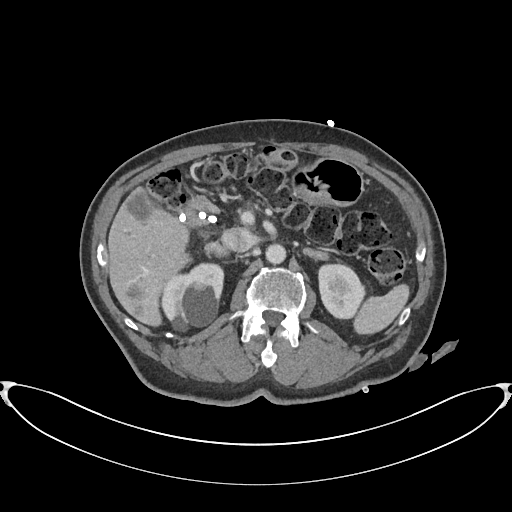Lesion: (188, 279, 208, 294)
